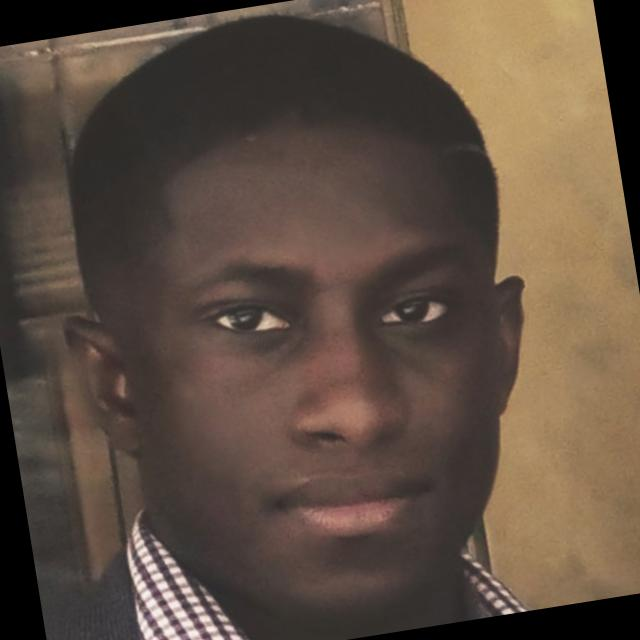face: (14, 1, 579, 640)
